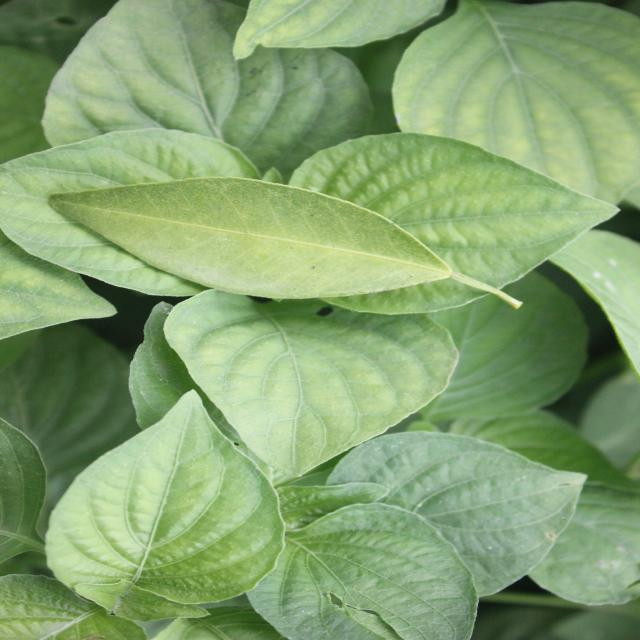blackspot: (149, 203, 424, 287)
